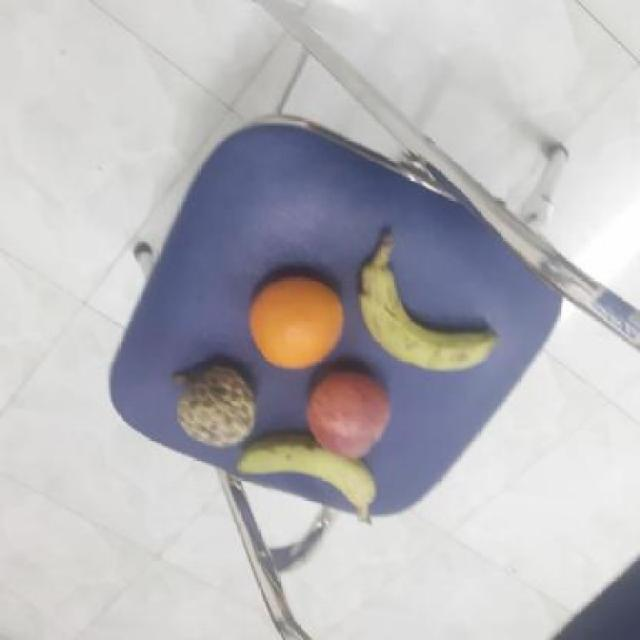apple: (304, 370, 394, 464)
banana: (357, 259, 498, 372), (233, 438, 382, 516)
oren: (246, 274, 346, 368)
sugar apple: (175, 362, 259, 448)
